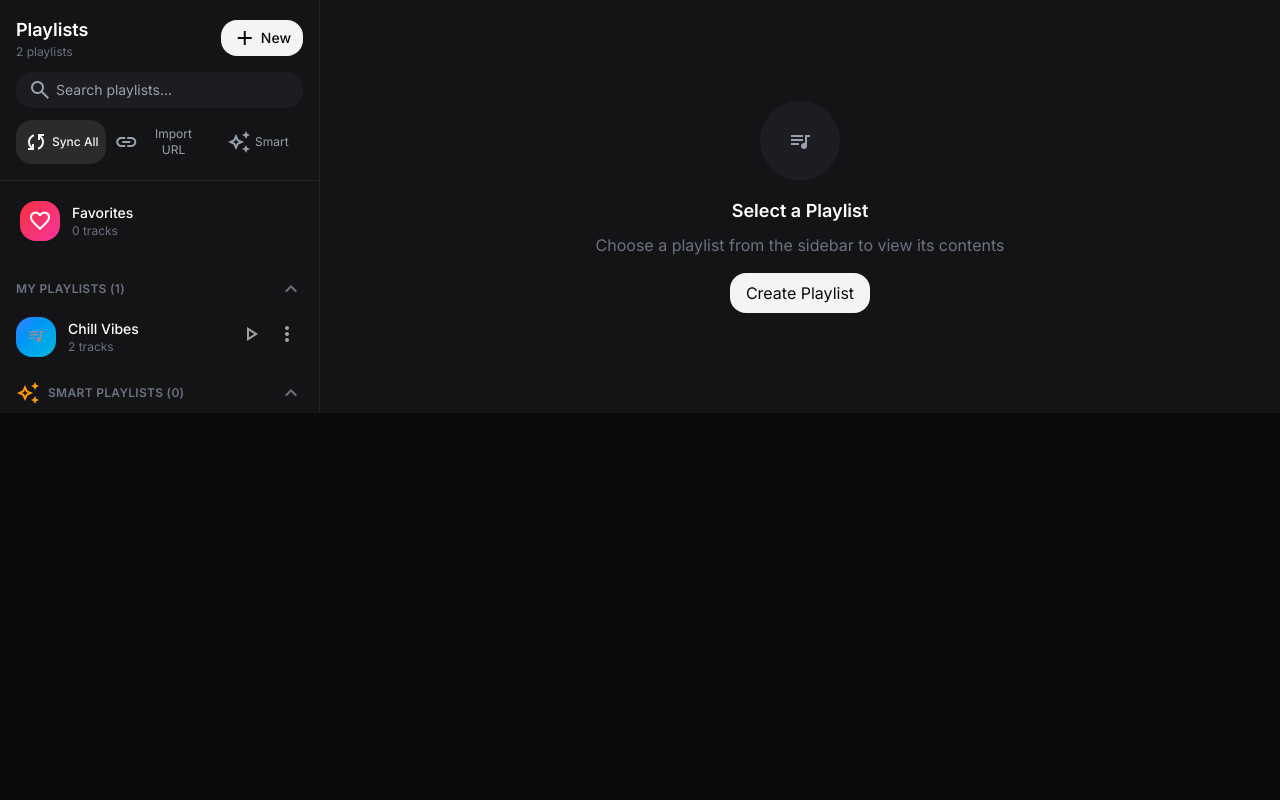
Test case: PlaylistView › imports a supported playlist URL through the matching persisted service command
Step 1. Click the button "Import URL" → (159, 142), box top-left (114, 120), bottom-right (205, 164)
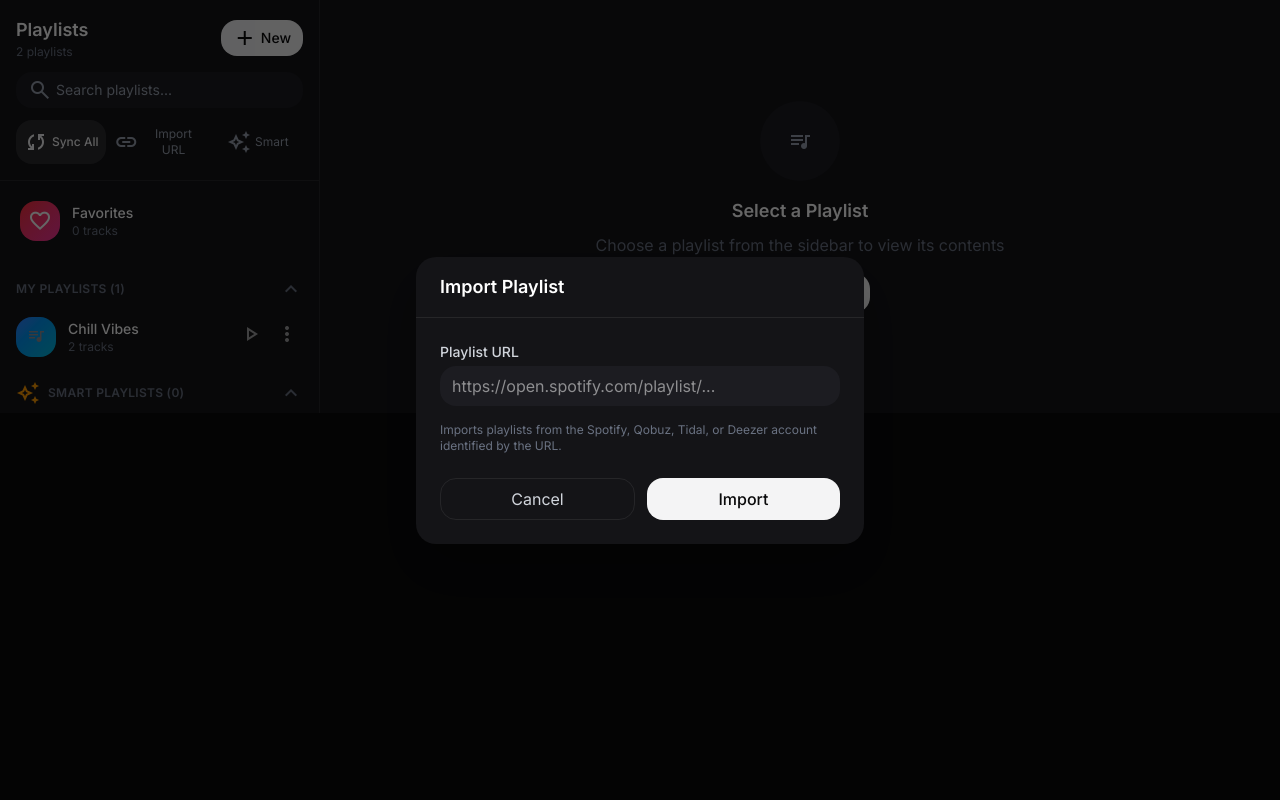
Step 2. Type "https://open.spotify.com/playlist/abc123" into the field with placeholder "https://open.spotify.com/playlist/..." → (640, 386), box top-left (440, 366), bottom-right (840, 406)
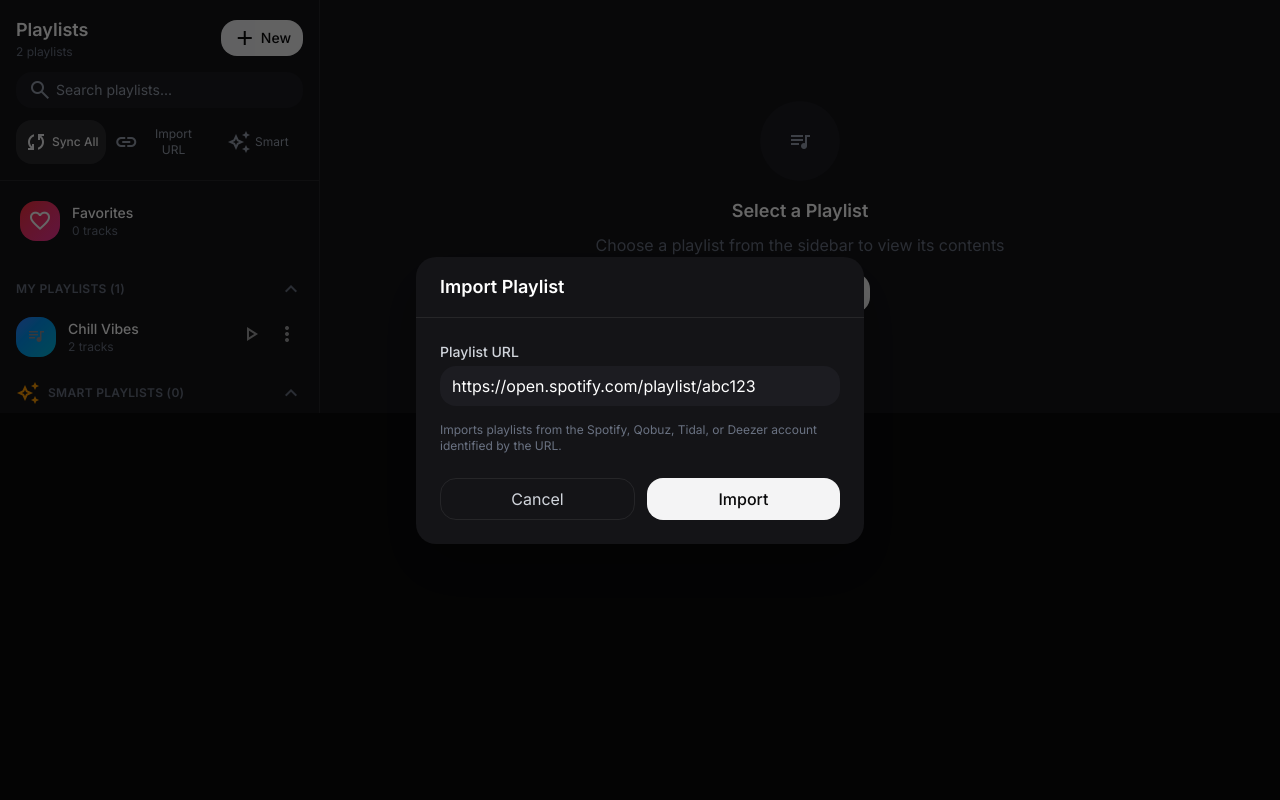
Now the button "Import" is shown
Step 3. Click the button "Import" → (744, 498), box top-left (647, 478), bottom-right (840, 520)
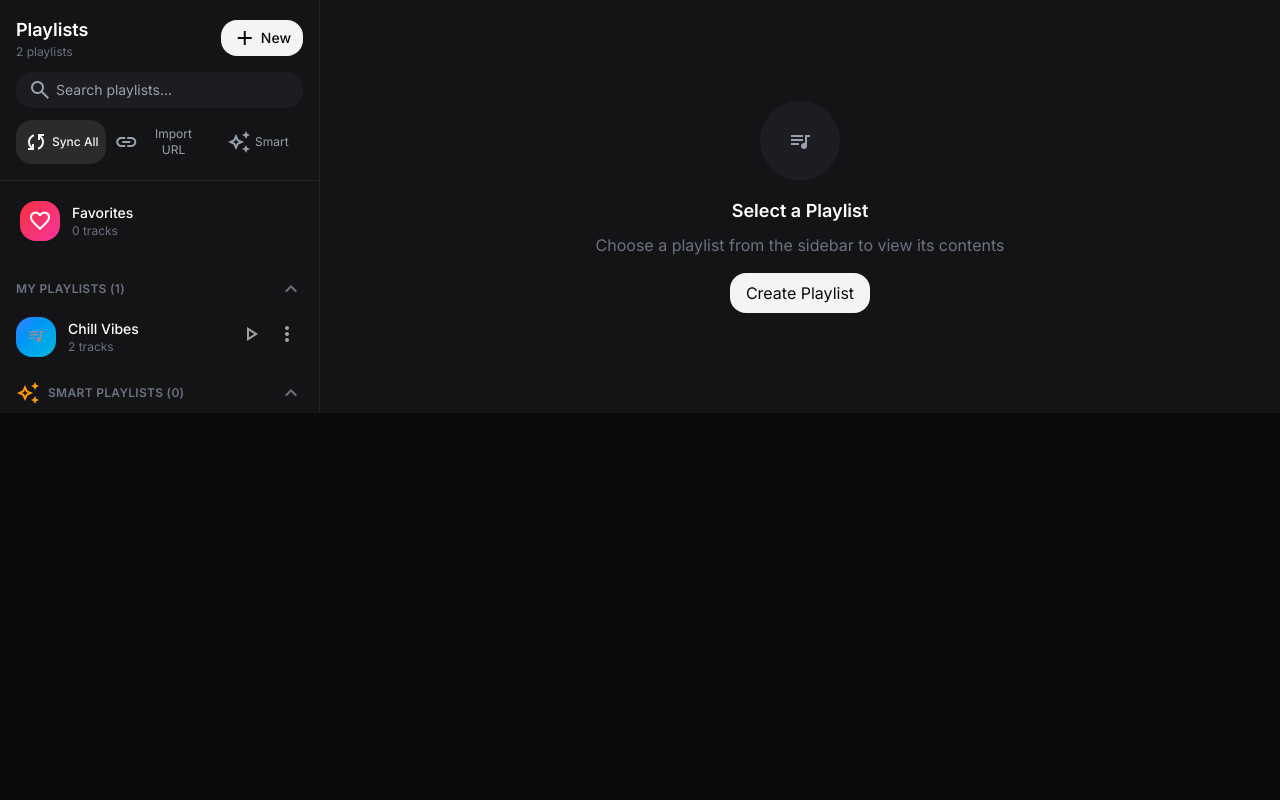
Now the field is gone
